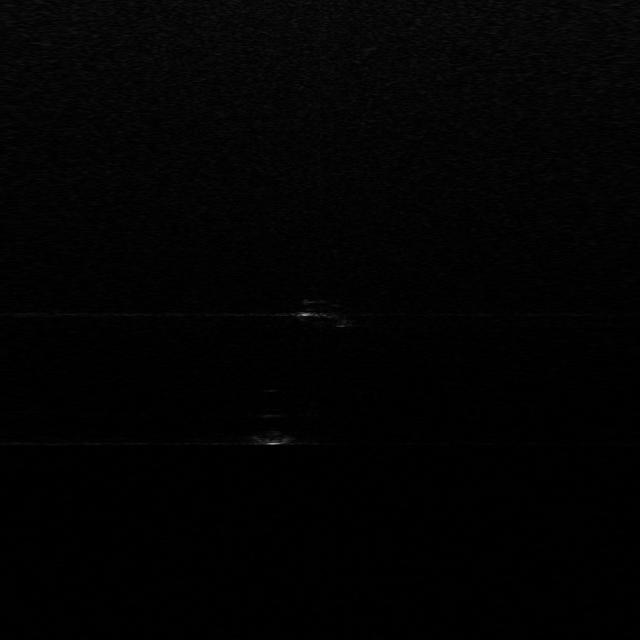ball: (242, 406, 300, 445)
tyre: (296, 299, 350, 330)
